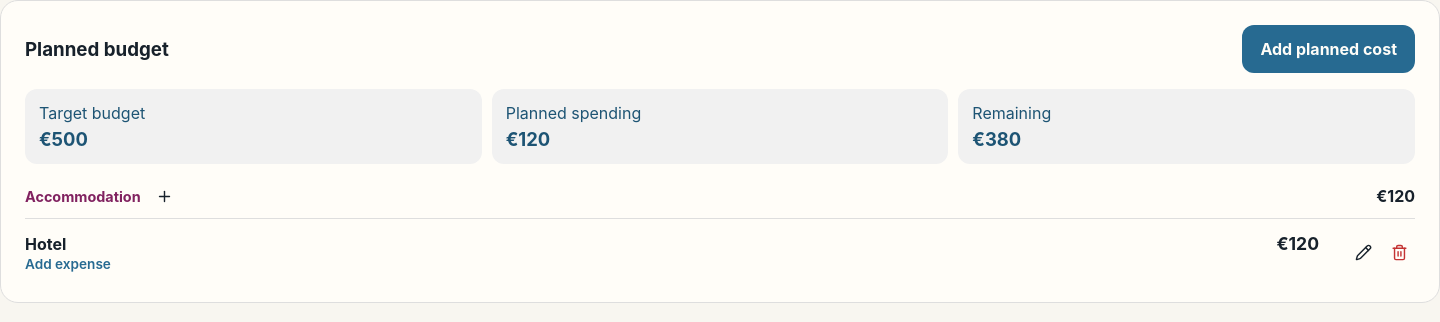
PlannedBudget › adds a planned cost to expenses and can undo it
expect the text "Hotel" is shown: met, box [25, 234, 66, 254]
Click the button "Add expense".
click(68, 264)  # box [25, 256, 111, 272]
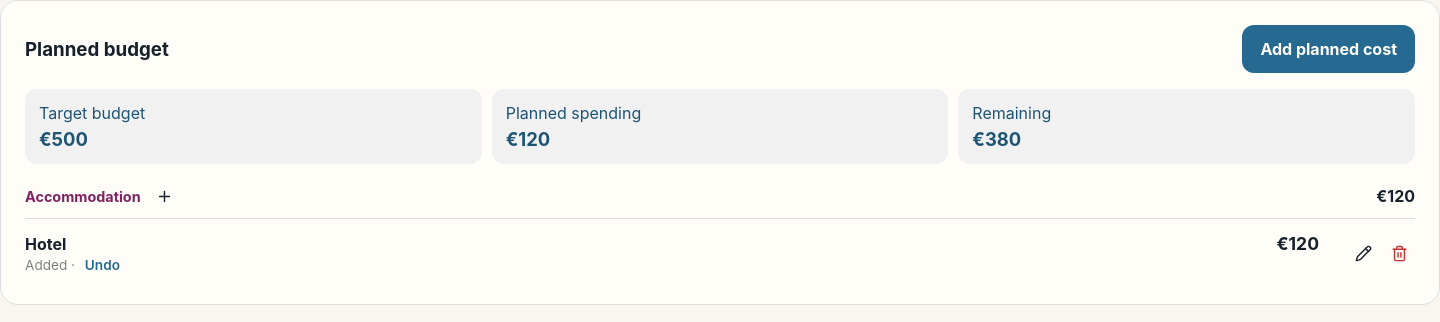
expect the text "Added · Undo" is shown: met, box [25, 256, 126, 274]
Click the button "Undo".
click(102, 265)  # box [79, 256, 126, 274]
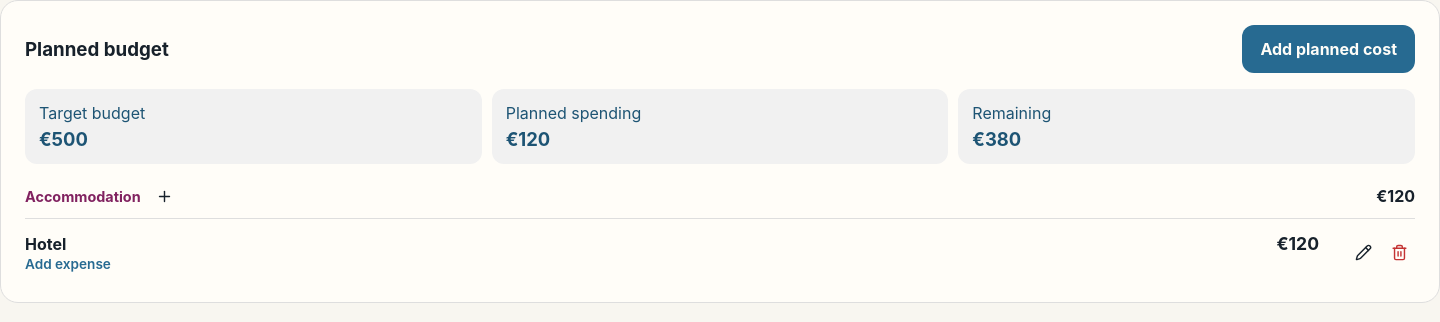
expect the button "Add expense" is shown: met, box [25, 256, 111, 272]
